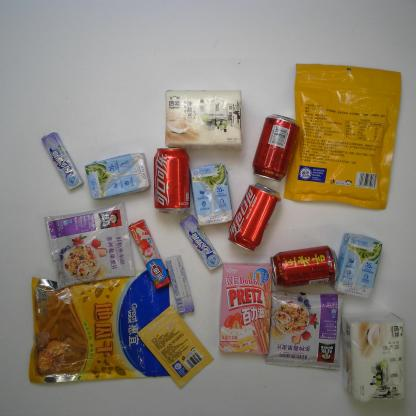Candy: (127, 221, 171, 291), (178, 214, 223, 273), (40, 131, 83, 191), (164, 254, 196, 317)
Dessert: (215, 261, 275, 359)
Dried Fruit: (283, 58, 403, 212), (26, 268, 177, 386)
Drink: (226, 183, 280, 252), (252, 112, 302, 184), (269, 243, 340, 290), (152, 146, 192, 215)
Instant Drink: (42, 202, 138, 292), (264, 289, 345, 371)
Milk: (332, 232, 382, 297), (84, 154, 151, 200), (190, 164, 236, 228)
Seasoner: (134, 306, 210, 389)
Tissue: (338, 313, 406, 406), (162, 88, 245, 150)
